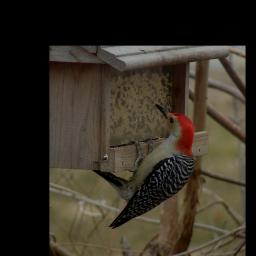Woodpecker: (99, 103, 200, 225)
